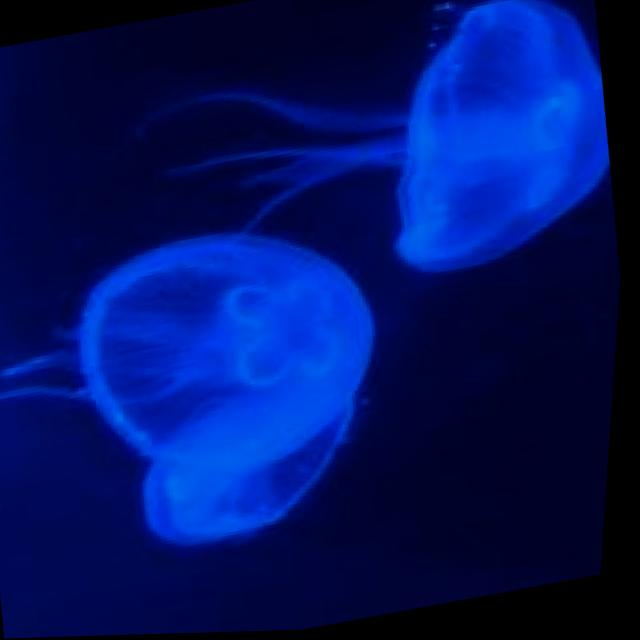Moon-jellyfish: (109, 0, 635, 334), (0, 203, 420, 588)
